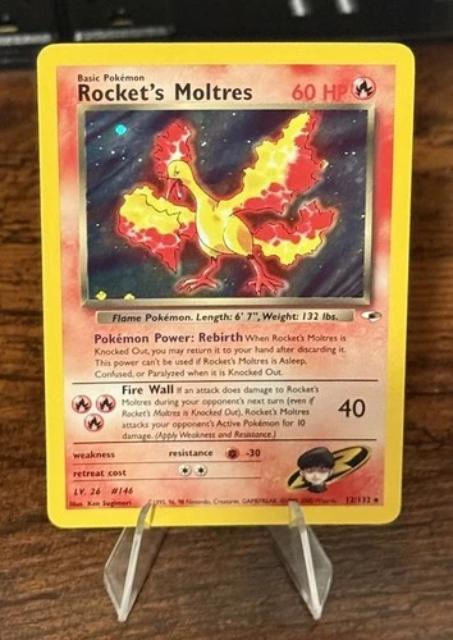Card: (30, 37, 419, 534)
Name: (74, 80, 259, 108)
